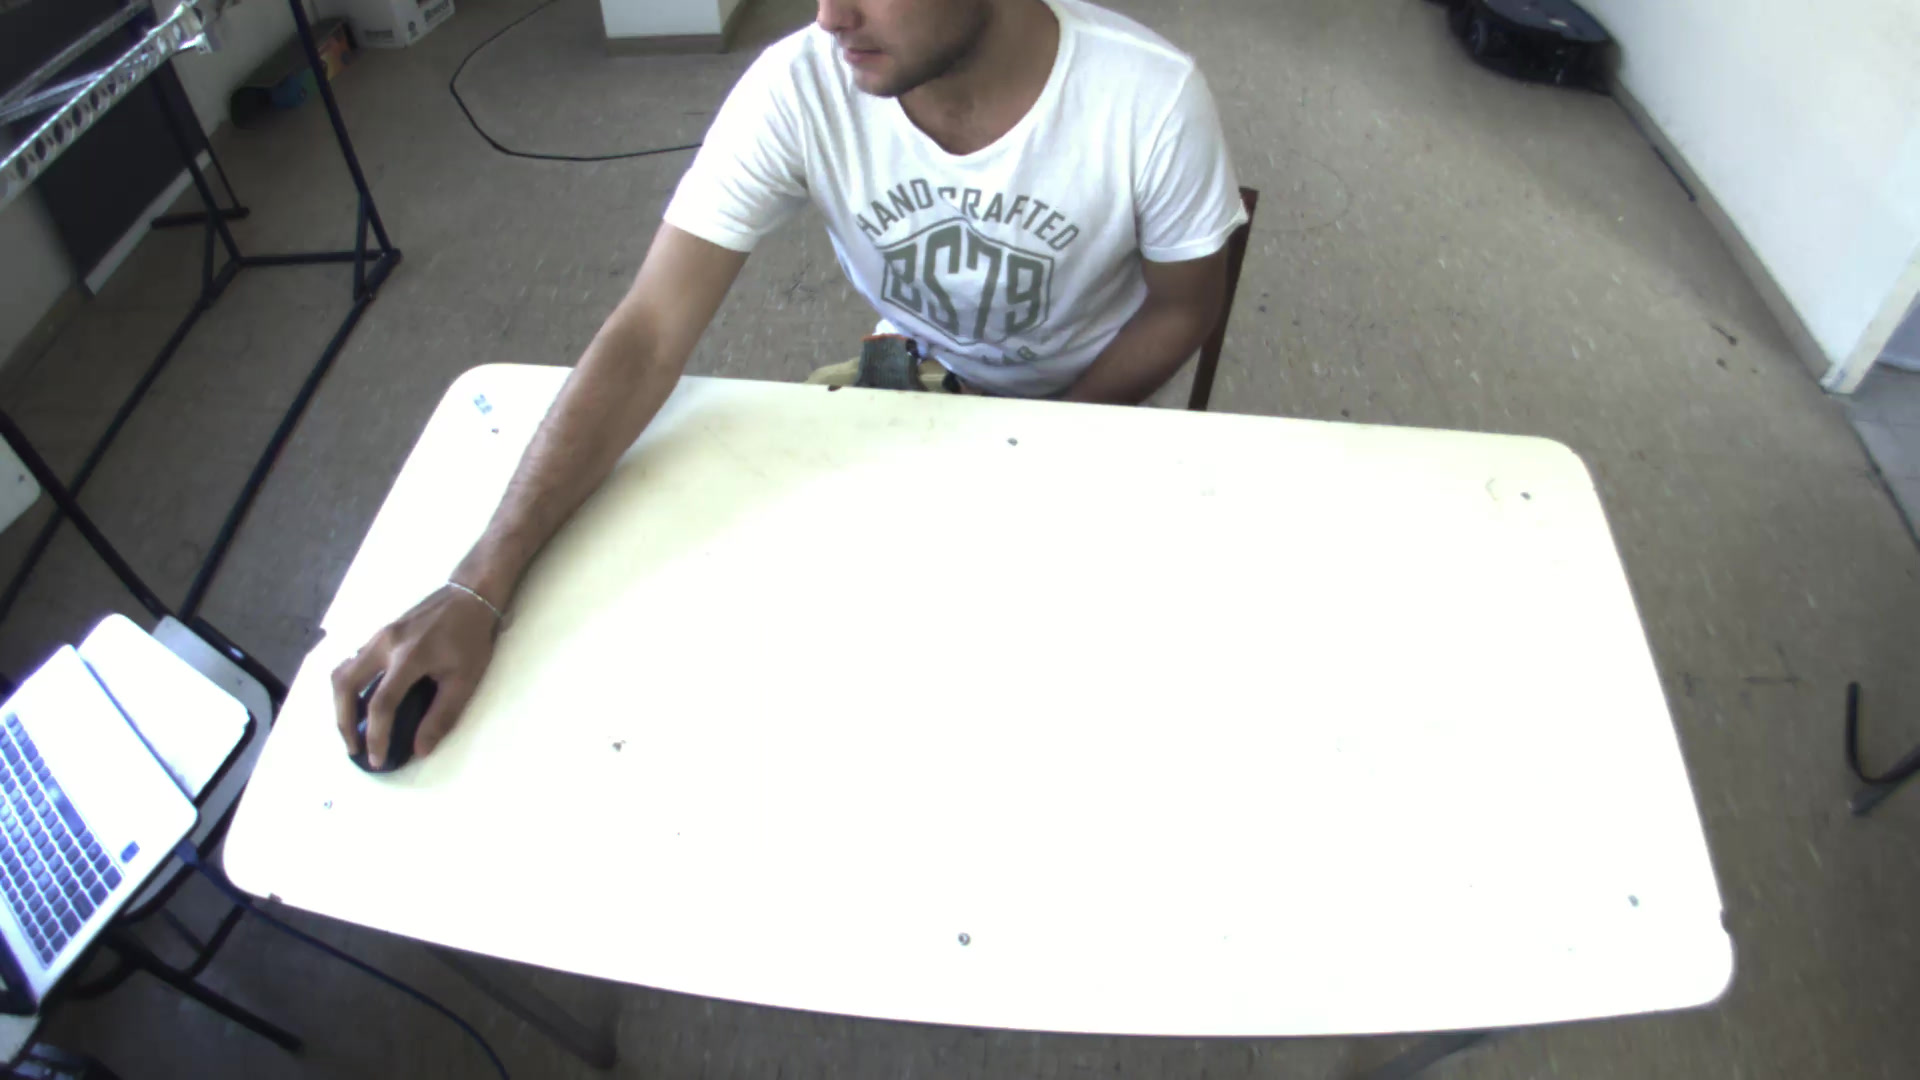hand: (316, 580, 514, 781)
